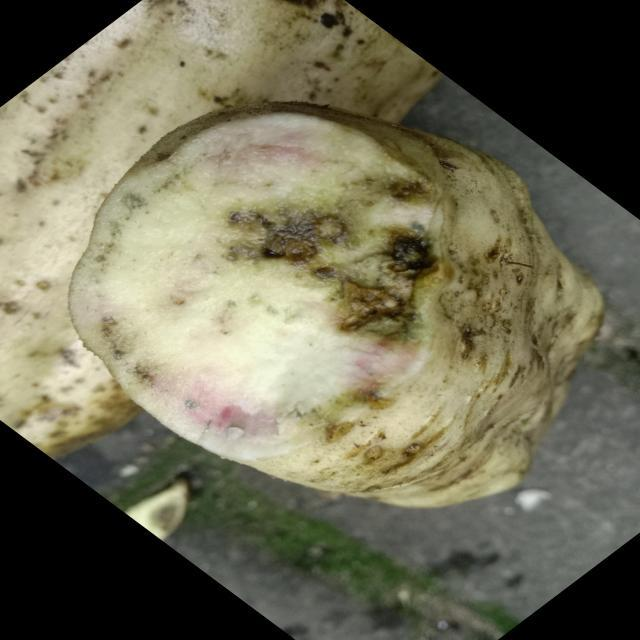Sick Sweet Potato_Tuber Rot: (70, 104, 442, 461)
